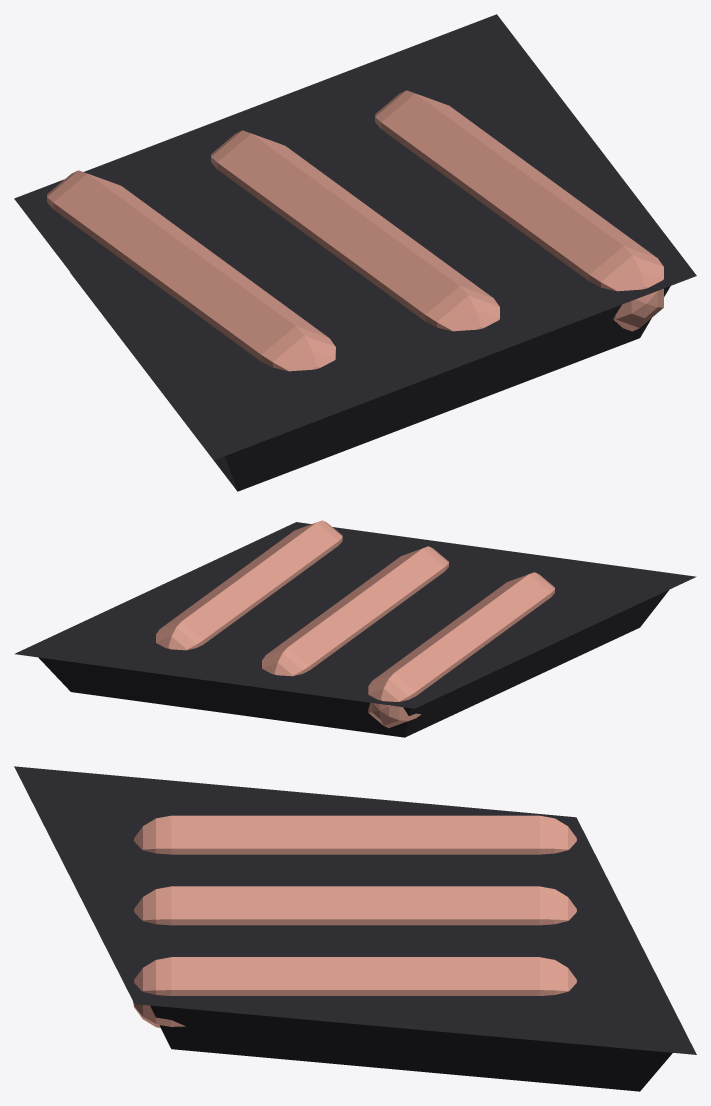
Rendered from g-sausages.glb.
3 renders of one model, top to bottom at view 1: azimuth 30°, elevation 25°; view 2: azimuth 150°, elevation 25°; view 3: azimuth 270°, elevation 25°, orthographic. The views are drawn at different scales.
Parts seen in each view (by area): view 1: g_sausages; view 2: g_sausages; view 3: g_sausages.
Part boxes in pixels (bbox=[...]): g_sausages: bbox=[14, 14, 696, 491]; g_sausages: bbox=[15, 520, 696, 737]; g_sausages: bbox=[14, 766, 696, 1091].
Size of the model in its own units: 0.204 by 0.028 by 0.204.
